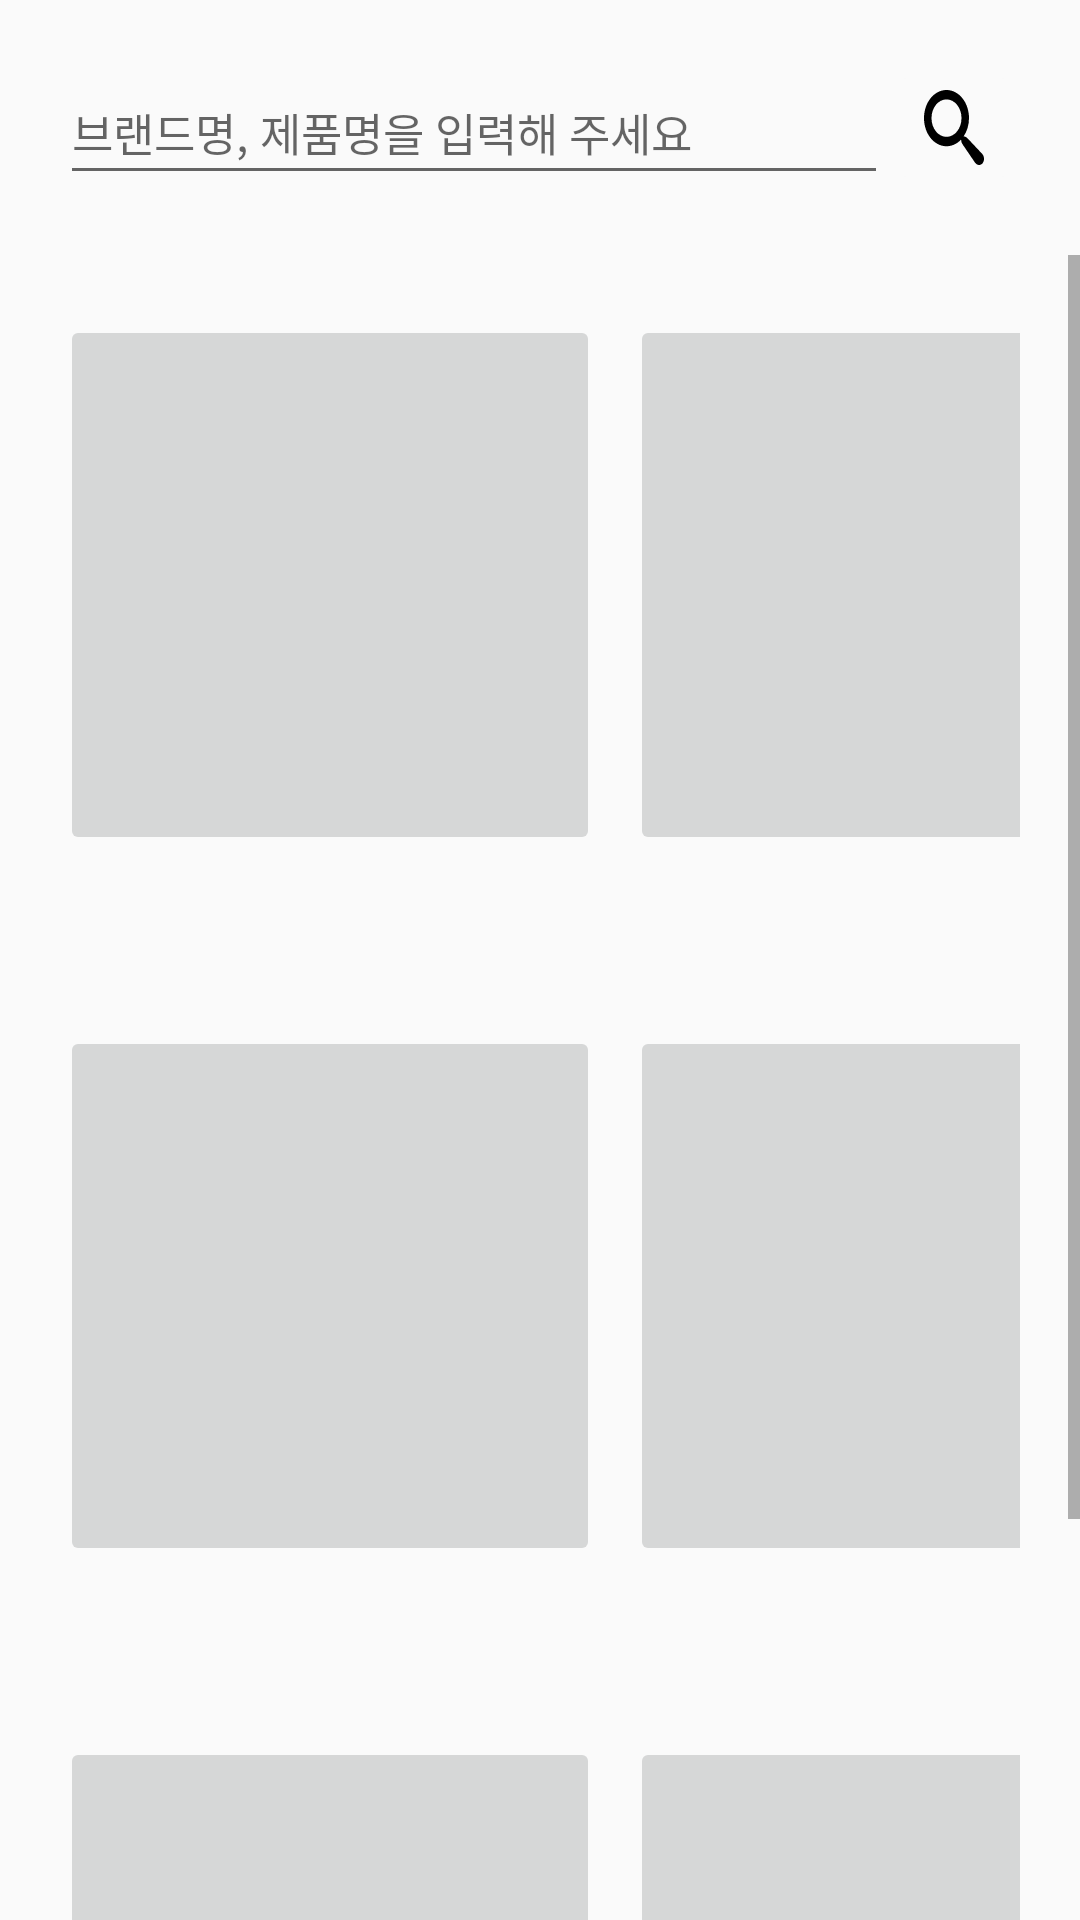

Icon bounding boxes for this 1080 × 1920 phone screenshot, format [left=x1, top=y1, right=x2, bottom=y2]:
search: [left=924, top=90, right=984, bottom=165]
